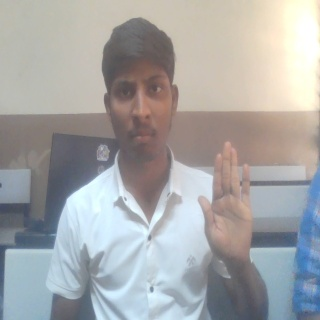Face: (99, 16, 181, 178)
Hello: (197, 139, 255, 269)
